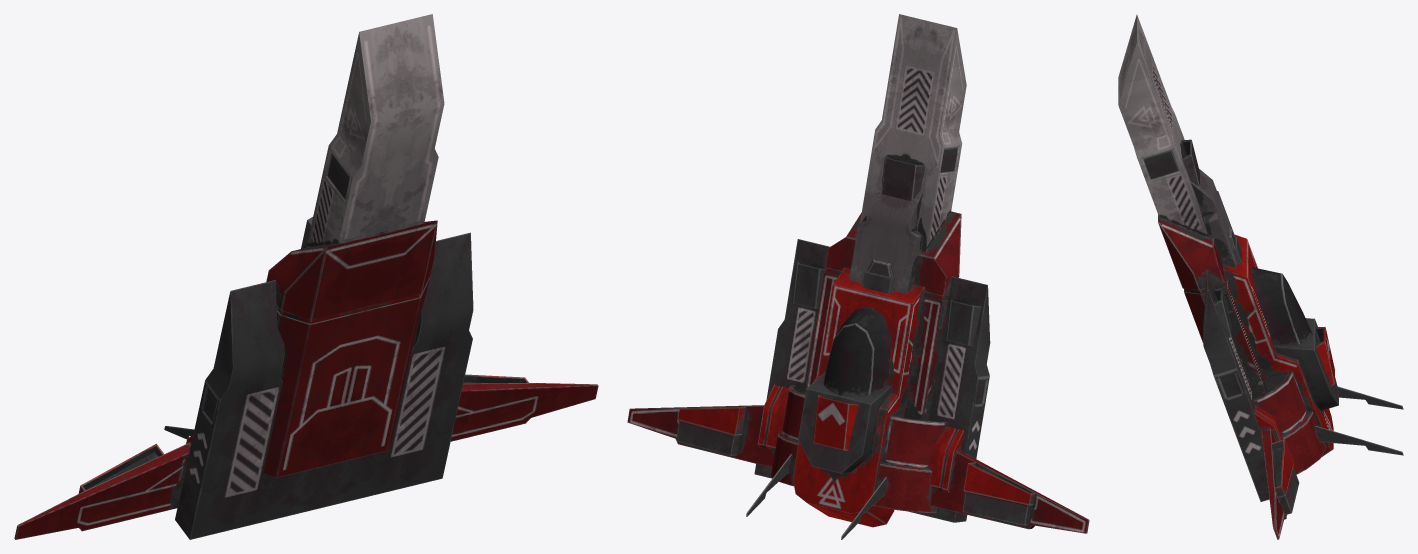
The model's file is Challenger.fbx.
3 renders of one model, left to right at view 1: azimuth 30°, elevation 25°; view 2: azimuth 150°, elevation 25°; view 3: azimuth 270°, elevation 25°, orthographic. The views are drawn at different scales.
Parts seen in each view (by area): view 1: Challenger; view 2: Challenger; view 3: Challenger.
Part boxes in pixels (x1=…): Challenger: x1=14, y1=14, x2=598, y2=539; Challenger: x1=627, y1=14, x2=1089, y2=539; Challenger: x1=1118, y1=14, x2=1403, y2=539.
Size of the model in its own units: 4358 by 2369 by 4027.
